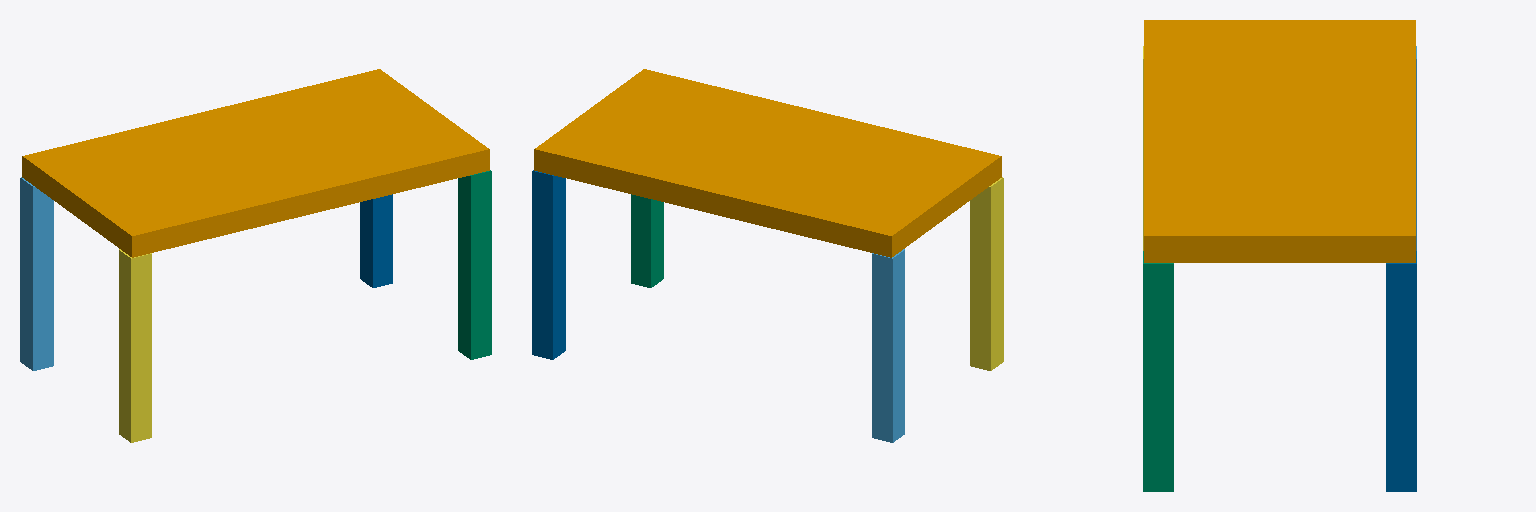
URDF robot description (table):
<?xml version="1.0"?>
<robot name="table">
  <link name="top">
    <inertial>
        <origin rpy="0 0 0" xyz="0 0 0"/>
        <mass value="5.0"/>
        <inertia ixx="4.4e-5" ixy="0.00001" ixz="0.00001" iyy="0.00001" iyz="0.00001" izz="4.4e-5"/>
    </inertial>
    <visual>
      <geometry>
        <mesh filename="top.obj"/>
      </geometry>
    </visual>
    <collision>
      <geometry>
        <mesh filename="top.obj"/>
      </geometry>
      <surface>
           <bounce restitution_coefficient = "0.1"/>
      </surface>
    </collision>
  </link>
  <link name="leg_1">
    <inertial>
        <origin rpy="0 0 0" xyz="0 0 0"/>
        <mass value="0.5"/>
        <inertia ixx="4.4e-5" ixy="0.00001" ixz="0.00001" iyy="0.00001" iyz="0.00001" izz="4.4e-5"/>
    </inertial>
    <visual>
      <geometry>
        <mesh filename="leg.obj"/>
      </geometry>
    </visual>
    <collision>
      <geometry>
        <mesh filename="leg.obj"/>
      </geometry>
      <surface>
           <bounce restitution_coefficient = "0.1"/>
      </surface>
    </collision>
  </link>
  <link name="leg_2">
    <inertial>
        <origin rpy="0 0 0" xyz="0 0 0"/>
        <mass value="0.5"/>
        <inertia ixx="4.4e-5" ixy="0.00001" ixz="0.00001" iyy="0.00001" iyz="0.00001" izz="4.4e-5"/>
    </inertial>
    <visual>
      <geometry>
        <mesh filename="leg.obj"/>
      </geometry>
    </visual>
    <collision>
      <geometry>
        <mesh filename="leg.obj"/>
      </geometry>
      <surface>
           <bounce restitution_coefficient = "0.1"/>
      </surface>
    </collision>
  </link>
  <link name="leg_3">
    <inertial>
        <origin rpy="0 0 0" xyz="0 0 0"/>
        <mass value="0.5"/>
        <inertia ixx="4.4e-5" ixy="0.00001" ixz="0.00001" iyy="0.00001" iyz="0.00001" izz="4.4e-5"/>
    </inertial>
    <visual>
      <geometry>
        <mesh filename="leg.obj"/>
      </geometry>
    </visual>
    <collision>
      <geometry>
        <mesh filename="leg.obj"/>
      </geometry>
      <surface>
           <bounce restitution_coefficient = "0.1"/>
      </surface>
    </collision>
  </link>
  <link name="leg_4">
    <inertial>
        <origin rpy="0 0 0" xyz="0 0 0"/>
        <mass value="0.5"/>
        <inertia ixx="4.4e-5" ixy="0.00001" ixz="0.00001" iyy="0.00001" iyz="0.00001" izz="4.4e-5"/>
    </inertial>
    <visual>
      <geometry>
        <mesh filename="leg.obj"/>
      </geometry>
    </visual>
    <collision>
      <geometry>
        <mesh filename="leg.obj"/>
      </geometry>
      <surface>
           <bounce restitution_coefficient = "0.1"/>
      </surface>
    </collision>
  </link>
  <joint name="top_to_leg_1" type="fixed">
    <parent link="top"/>
    <child link="leg_1"/>
    <origin rpy="0 0 0" xyz="-0.4 0.2 -0.232"/>
  </joint>
  <joint name="top_to_leg_2" type="fixed">
    <parent link="top"/>
    <child link="leg_2"/>
    <origin rpy="0 0 0" xyz="0.4 -0.2 -0.232"/>
  </joint>
  <joint name="top_to_leg_3" type="fixed">
    <parent link="top"/>
    <child link="leg_3"/>
    <origin rpy="0 0 0" xyz="-0.4 -0.2 -0.232"/>
  </joint>
  <joint name="top_to_leg_4" type="fixed">
    <parent link="top"/>
    <child link="leg_4"/>
    <origin rpy="0 0 0" xyz="0.4 0.2 -0.232"/>
  </joint>
</robot>

--- Render facts (derived) ---
Views: 3 orthographic renders of the robot side by side, from view 1: azimuth 30°, elevation 25°; view 2: azimuth 150°, elevation 25°; view 3: azimuth 270°, elevation 25°.
Model table with 5 links and 4 joints (4 fixed), rooted at top, posed all joints at 0.
Visible links, largest first — view 1: top, leg_2, leg_3, leg_1, leg_4; view 2: top, leg_4, leg_1, leg_3, leg_2; view 3: top, leg_2, leg_4.
Link boxes in pixels (x1=…): top: x1=22, y1=69, x2=489, y2=257; leg_2: x1=458, y1=170, x2=491, y2=359; leg_3: x1=119, y1=249, x2=151, y2=442; leg_1: x1=20, y1=177, x2=53, y2=370; leg_4: x1=360, y1=194, x2=392, y2=287; top: x1=534, y1=69, x2=1001, y2=257; leg_4: x1=532, y1=170, x2=565, y2=359; leg_1: x1=872, y1=249, x2=904, y2=442; leg_3: x1=970, y1=177, x2=1003, y2=370; leg_2: x1=631, y1=194, x2=663, y2=287; top: x1=1144, y1=20, x2=1415, y2=262; leg_2: x1=1143, y1=251, x2=1173, y2=491; leg_4: x1=1386, y1=251, x2=1416, y2=491.
Size in the robot's own frame: 0.8485 by 0.4516 by 0.4638 metres.
Meshes: 2 distinct files referenced, 5 mesh visuals loaded (2 OBJ).
